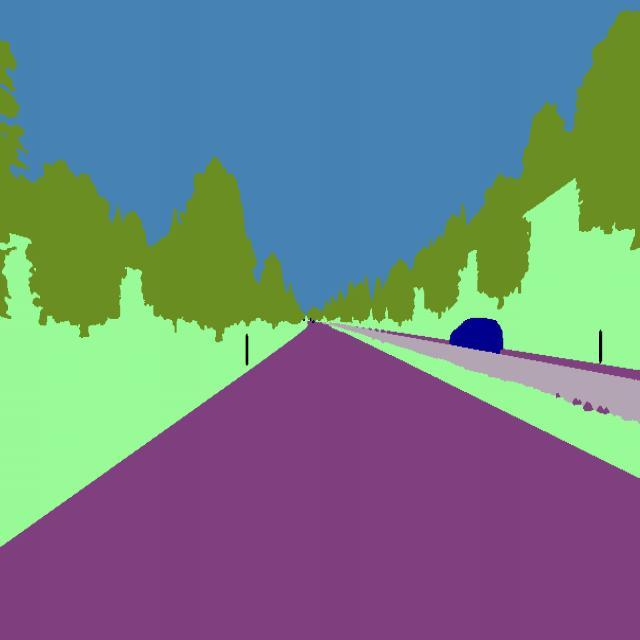safe: (444, 311, 507, 358)
